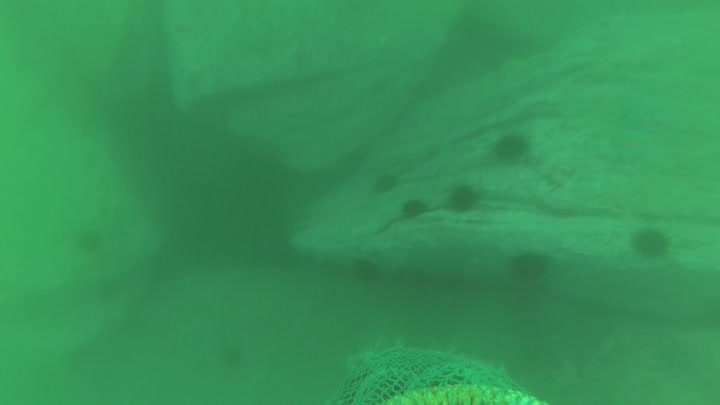echinus: (631, 228, 674, 262), (511, 254, 548, 286), (493, 133, 531, 164), (447, 185, 479, 214), (77, 227, 106, 254), (353, 257, 380, 283), (401, 199, 430, 219), (374, 172, 399, 194), (221, 346, 246, 368)
starfish: (614, 130, 652, 162)
